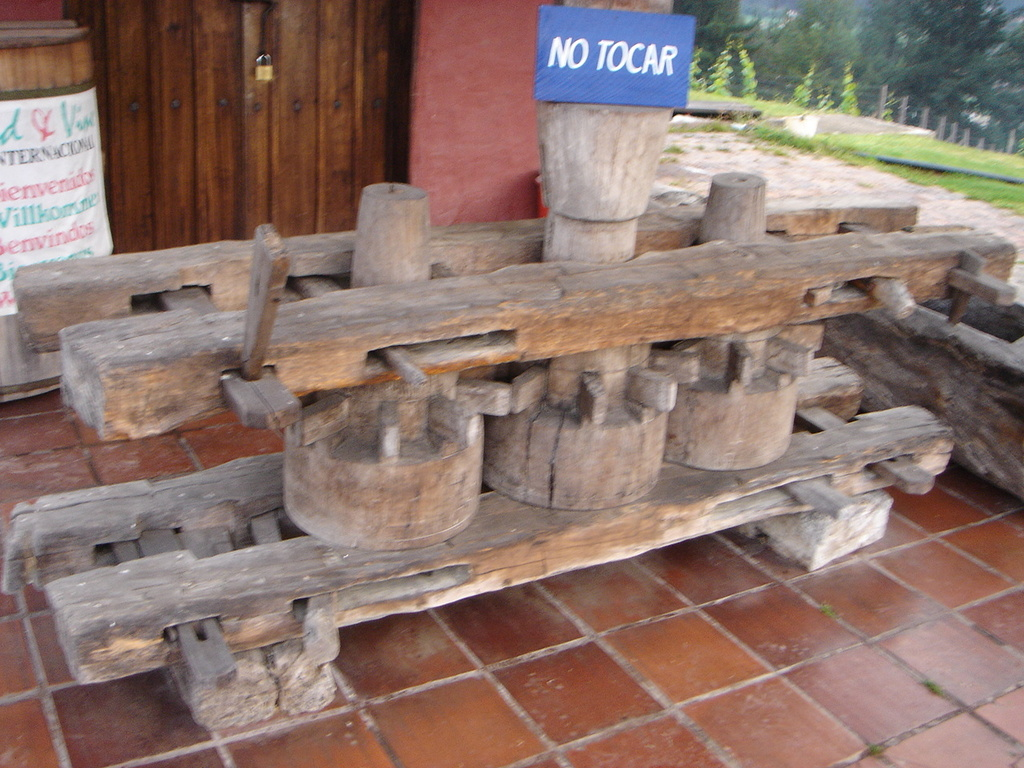Tree: (672, 0, 1023, 146)
